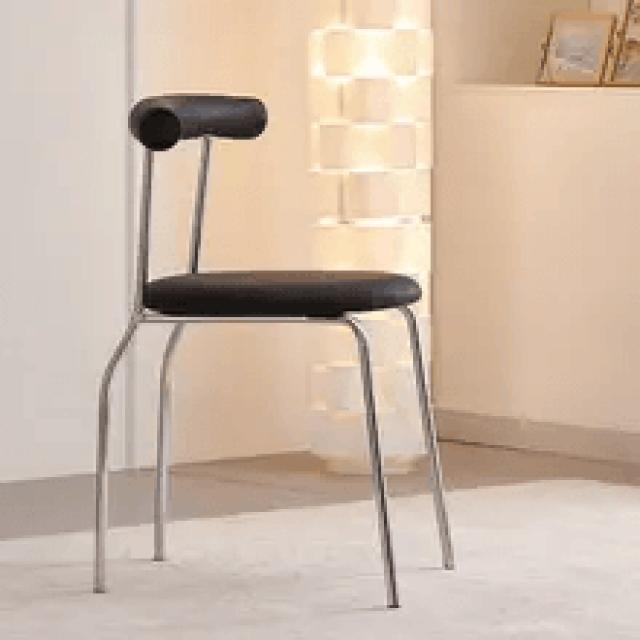chair: (88, 86, 456, 611), (125, 91, 438, 312)
